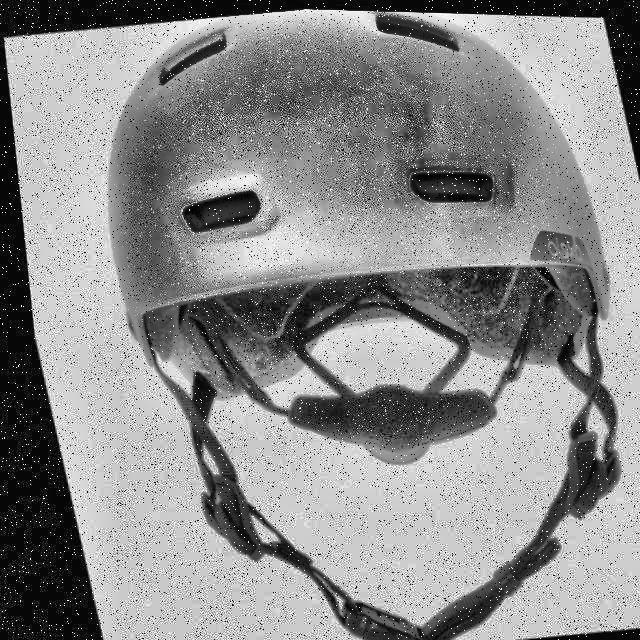Helmet: (53, 1, 640, 640)
